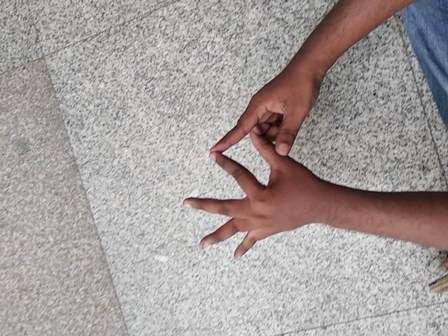k: (183, 108, 300, 252)
